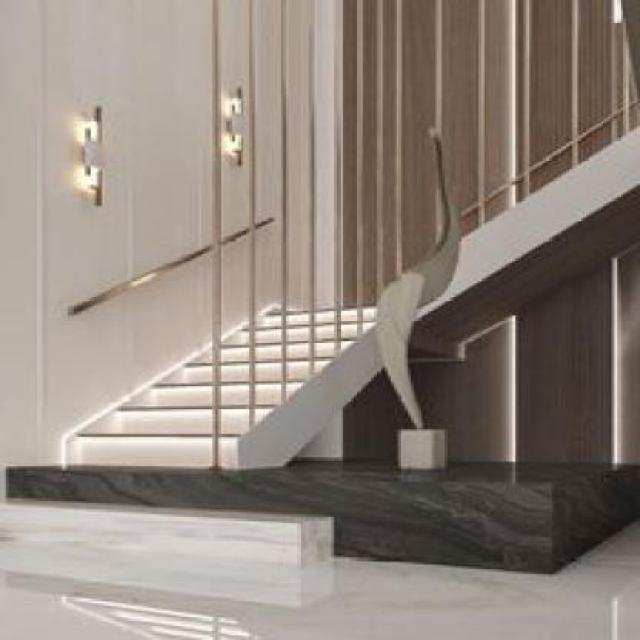stair: (22, 160, 450, 565)
